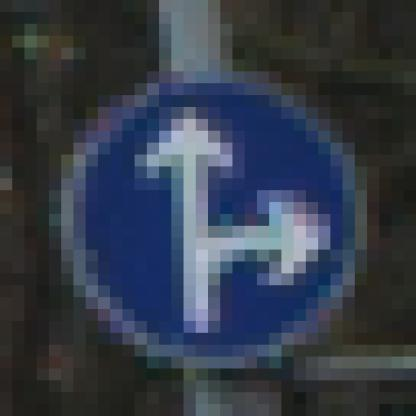Straight or Right: (62, 61, 356, 358)
